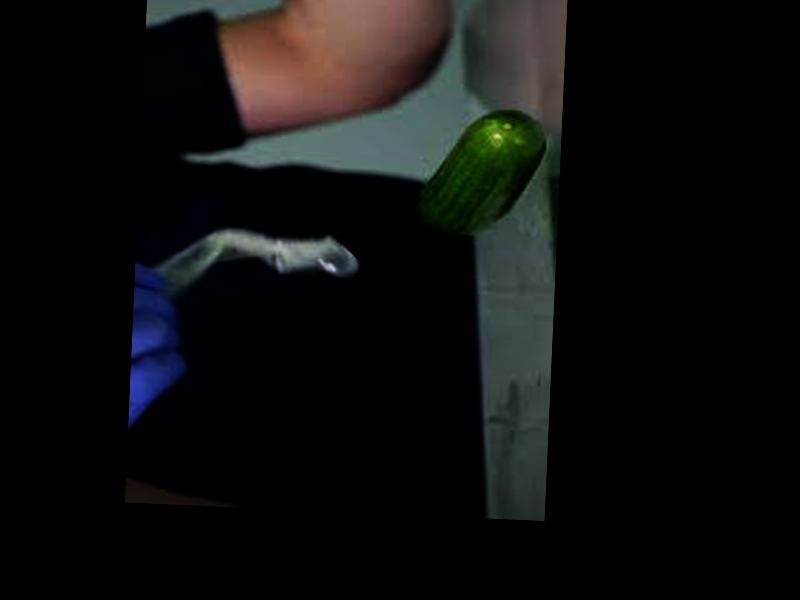Cucumber: (417, 106, 547, 238)
